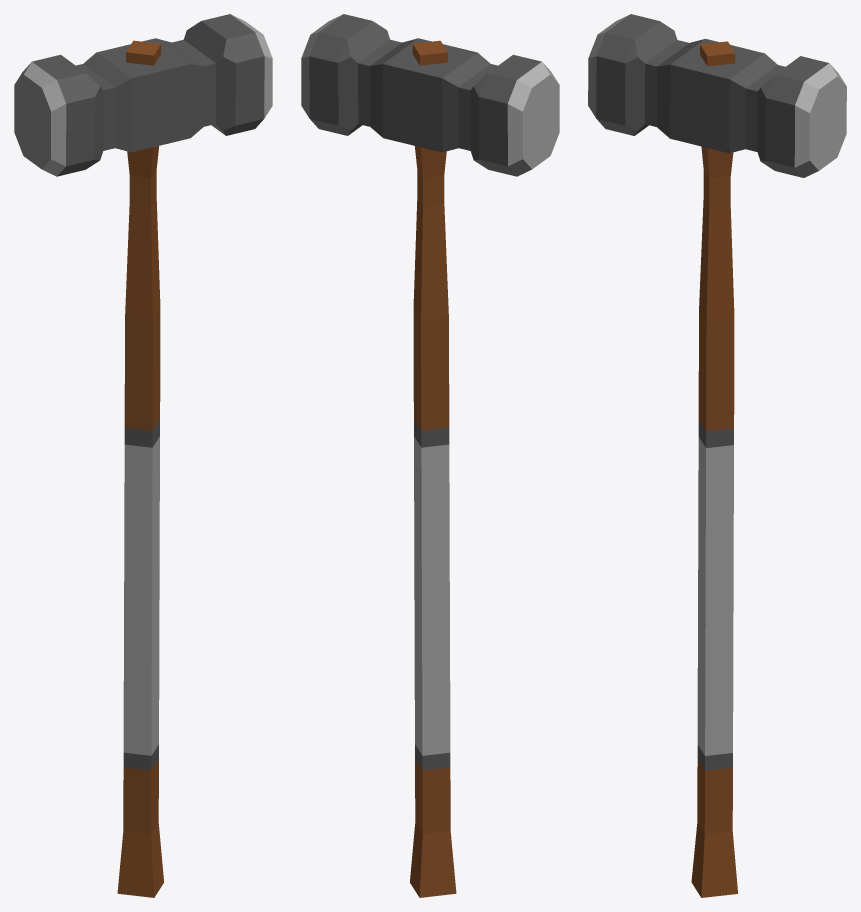
Rendered from Low Poly Weapon Pack - by Kickin It Studios.fbx_Double_Hammer.glb.
3 renders of one model, left to right at view 1: azimuth 30°, elevation 25°; view 2: azimuth 150°, elevation 25°; view 3: azimuth 330°, elevation 25°, orthographic.
Visible parts, largest first — view 1: Double Hammer; view 2: Double Hammer; view 3: Double Hammer.
Boxes of the visible parts, bbox=[...] form: Double Hammer: bbox=[14, 14, 272, 897]; Double Hammer: bbox=[301, 14, 559, 897]; Double Hammer: bbox=[588, 14, 846, 897].
Size of the model in its own units: 0.4037 by 1.46 by 0.1375.
